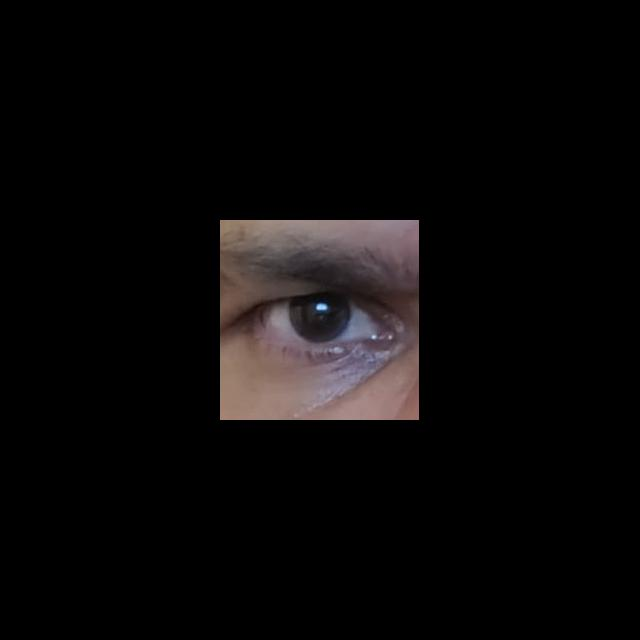eye: (261, 292, 379, 347)
iris: (290, 295, 352, 343)
